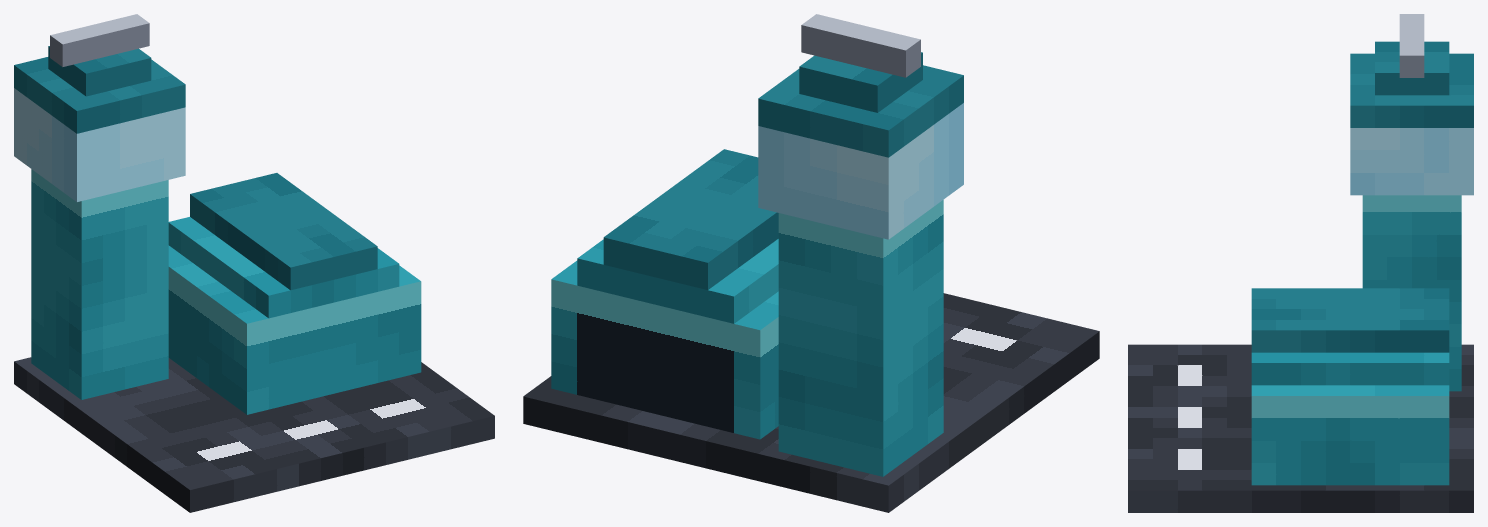
File: airport_blue.glb
The picture shows the model from 3 angles, left to right: view 1: azimuth 30°, elevation 25°; view 2: azimuth 150°, elevation 25°; view 3: azimuth 270°, elevation 25°; orthographic projection. The views are drawn at different scales.
Parts seen in each view (by area): view 1: body, radar; view 2: body, radar; view 3: body, radar.
Boxes of the visible parts, x1,y1,x2,y2 form: body: [14, 46, 494, 512]; radar: [50, 14, 149, 66]; body: [523, 52, 1099, 512]; radar: [801, 14, 920, 77]; body: [1128, 41, 1473, 512]; radar: [1399, 14, 1424, 77].
Size of the model in its own units: 0.875 by 1 by 0.875.
1 material, 1 textured.
